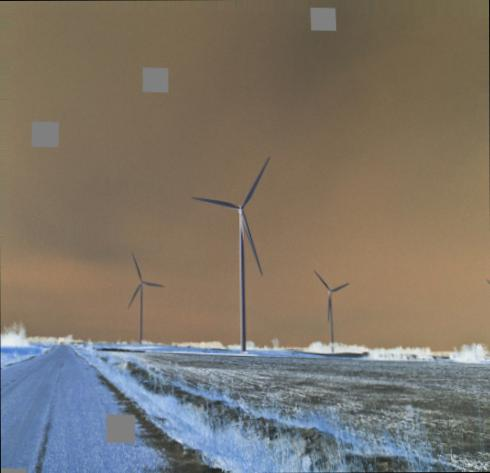wind turbine: (192, 155, 273, 347), (124, 250, 167, 339), (312, 268, 353, 350)
